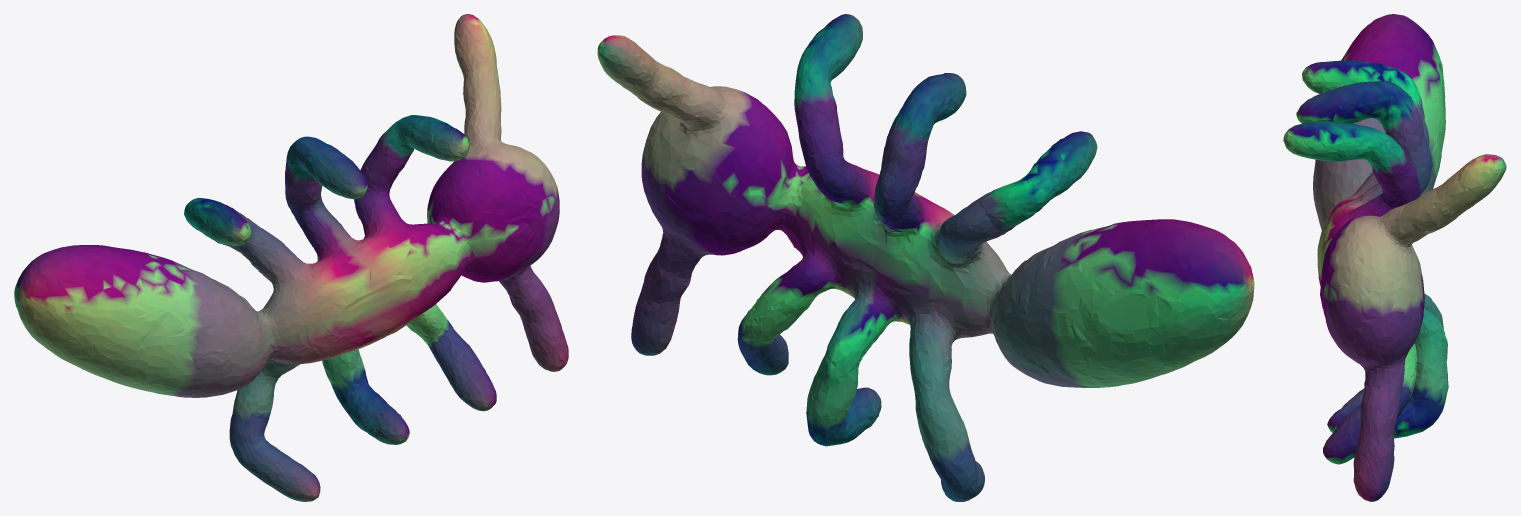
File: ant-7.off.obj
The picture shows the model from 3 angles, left to right: view 1: azimuth 30°, elevation 25°; view 2: azimuth 150°, elevation 25°; view 3: azimuth 270°, elevation 25°; orthographic projection. The views are drawn at different scales.
Size of the model in its own units: 1.64 by 1.11 by 0.5689.
